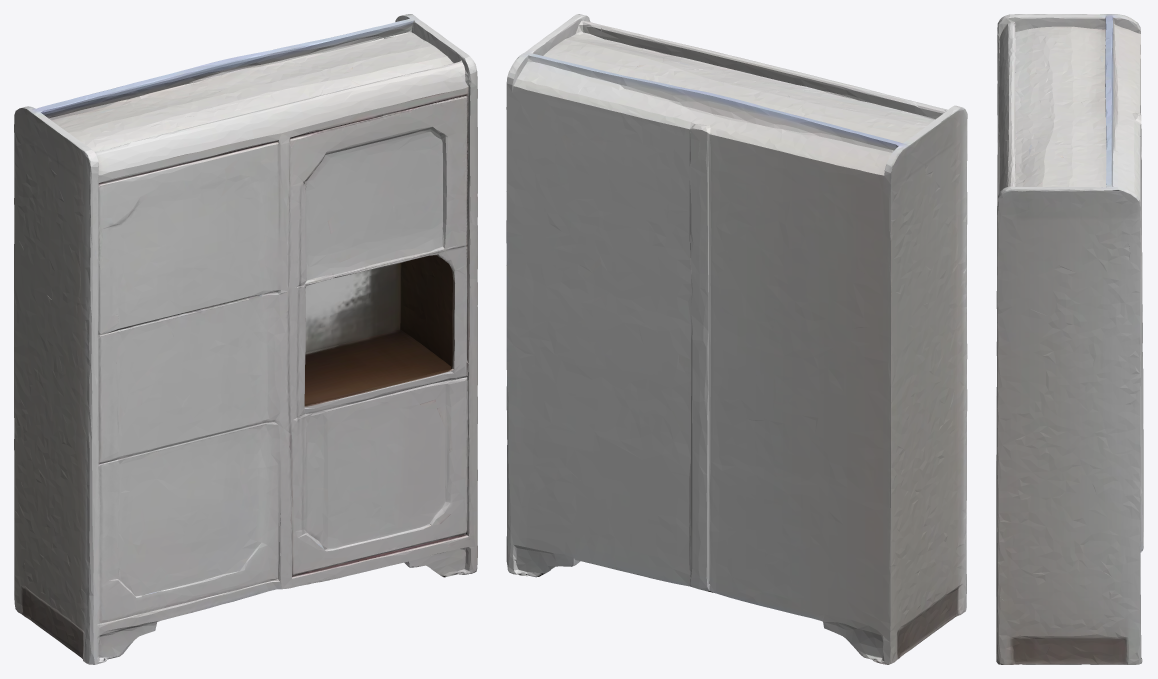
The picture shows the model from 3 angles, left to right: view 1: azimuth 30°, elevation 25°; view 2: azimuth 150°, elevation 25°; view 3: azimuth 270°, elevation 25°; orthographic projection. The views are drawn at different scales.
Parts seen in each view (by area): view 1: geometry_0; view 2: geometry_0; view 3: geometry_0.
Part boxes in pixels (x1,y1,x2,y2): geometry_0: (14,14,477,664); geometry_0: (506,14,967,664); geometry_0: (996,14,1143,664).
Bounding box in the file's own units: 0.7926 × 1 × 0.2788.
Materials: 1 (1 with a texture image).
